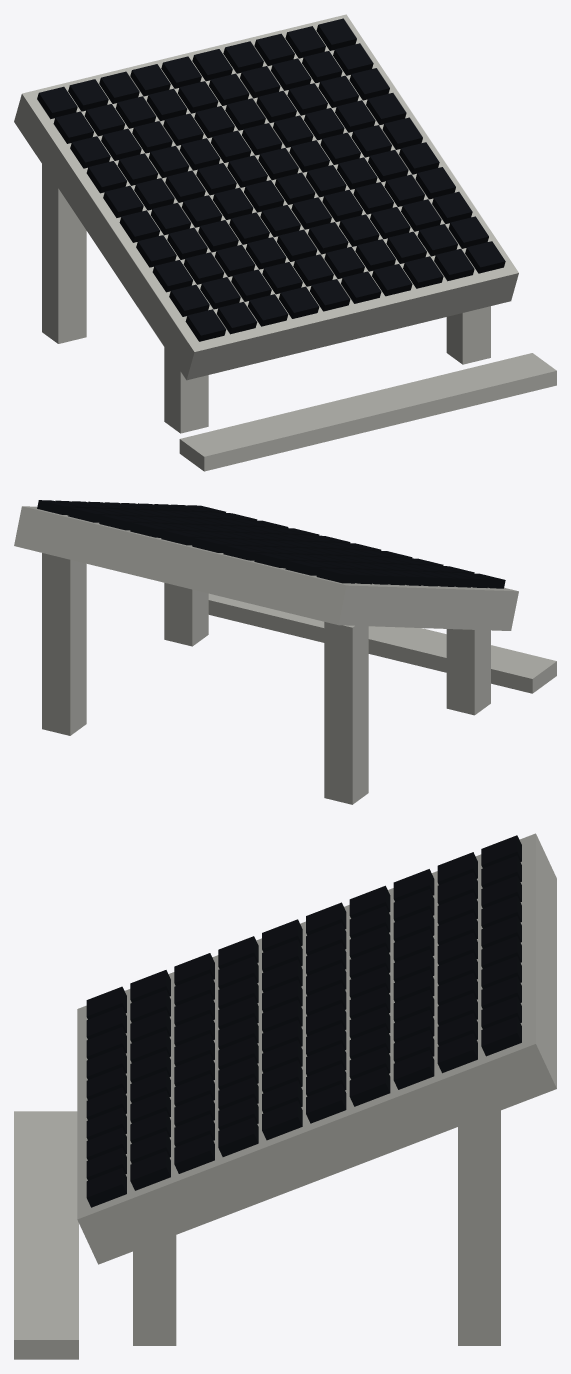
The model's file is laser_reflector.glb.
3 views of the same model, one above another, from view 1: azimuth 30°, elevation 25°; view 2: azimuth 150°, elevation 25°; view 3: azimuth 270°, elevation 25° (orthographic). The views are drawn at different scales.
Visible parts, largest first — view 1: model; view 2: model; view 3: model.
Boxes of the visible parts, <box> form: model: <box>14,14,556,471</box>; model: <box>14,500,556,804</box>; model: <box>14,833,556,1359</box>.
Size of the model in its own units: 0.5 by 0.3173 by 0.5016.
Materials: 1 (1 with a texture image).
